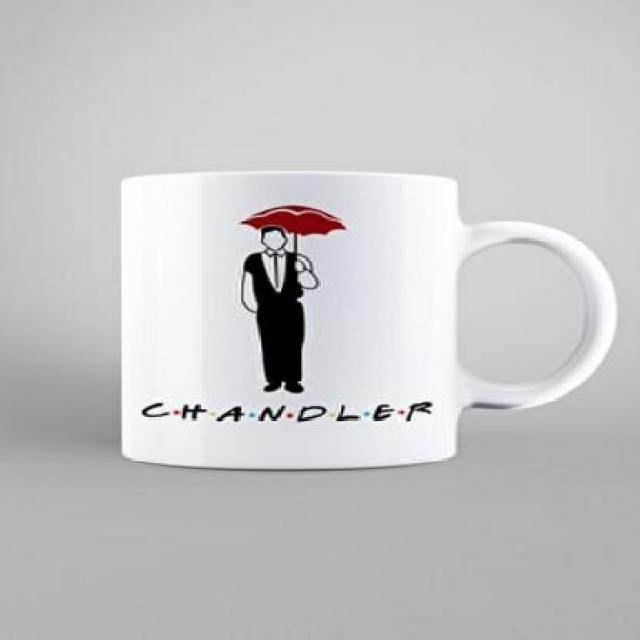taza: (118, 172, 619, 472)
